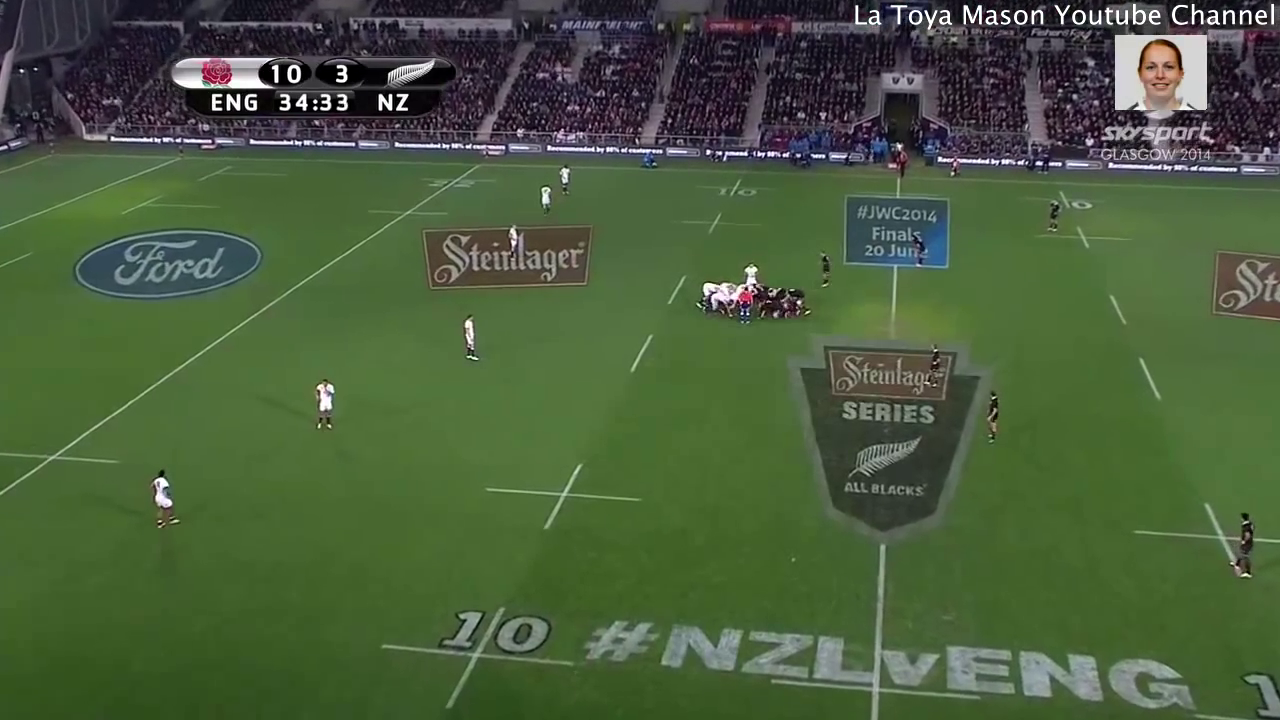10_metre: (377, 601, 583, 710), (484, 460, 647, 535), (1126, 501, 1280, 571), (1037, 222, 1134, 258), (670, 208, 760, 236), (694, 174, 772, 201), (1040, 189, 1106, 215)
player: (148, 467, 187, 538), (305, 375, 343, 433), (1228, 508, 1257, 582), (457, 311, 484, 365), (982, 389, 1005, 446), (816, 248, 834, 294), (554, 162, 575, 198), (1043, 196, 1061, 237), (910, 230, 928, 269), (924, 343, 942, 381), (536, 184, 554, 215), (739, 285, 753, 323), (505, 224, 520, 257), (742, 257, 759, 282)
scrum: (698, 278, 814, 320)
